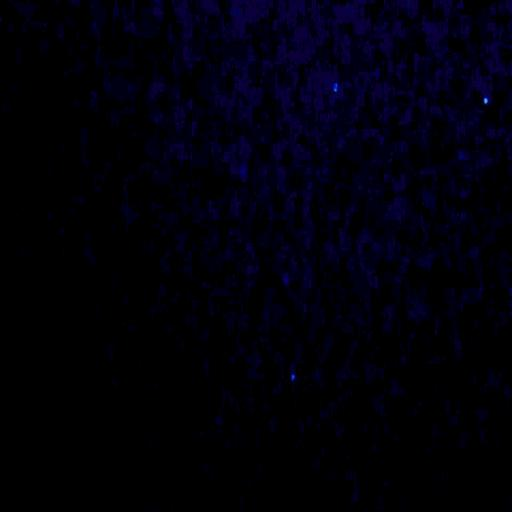object-detection-project: (332, 82, 338, 92), (291, 374, 295, 381), (484, 98, 488, 103)
